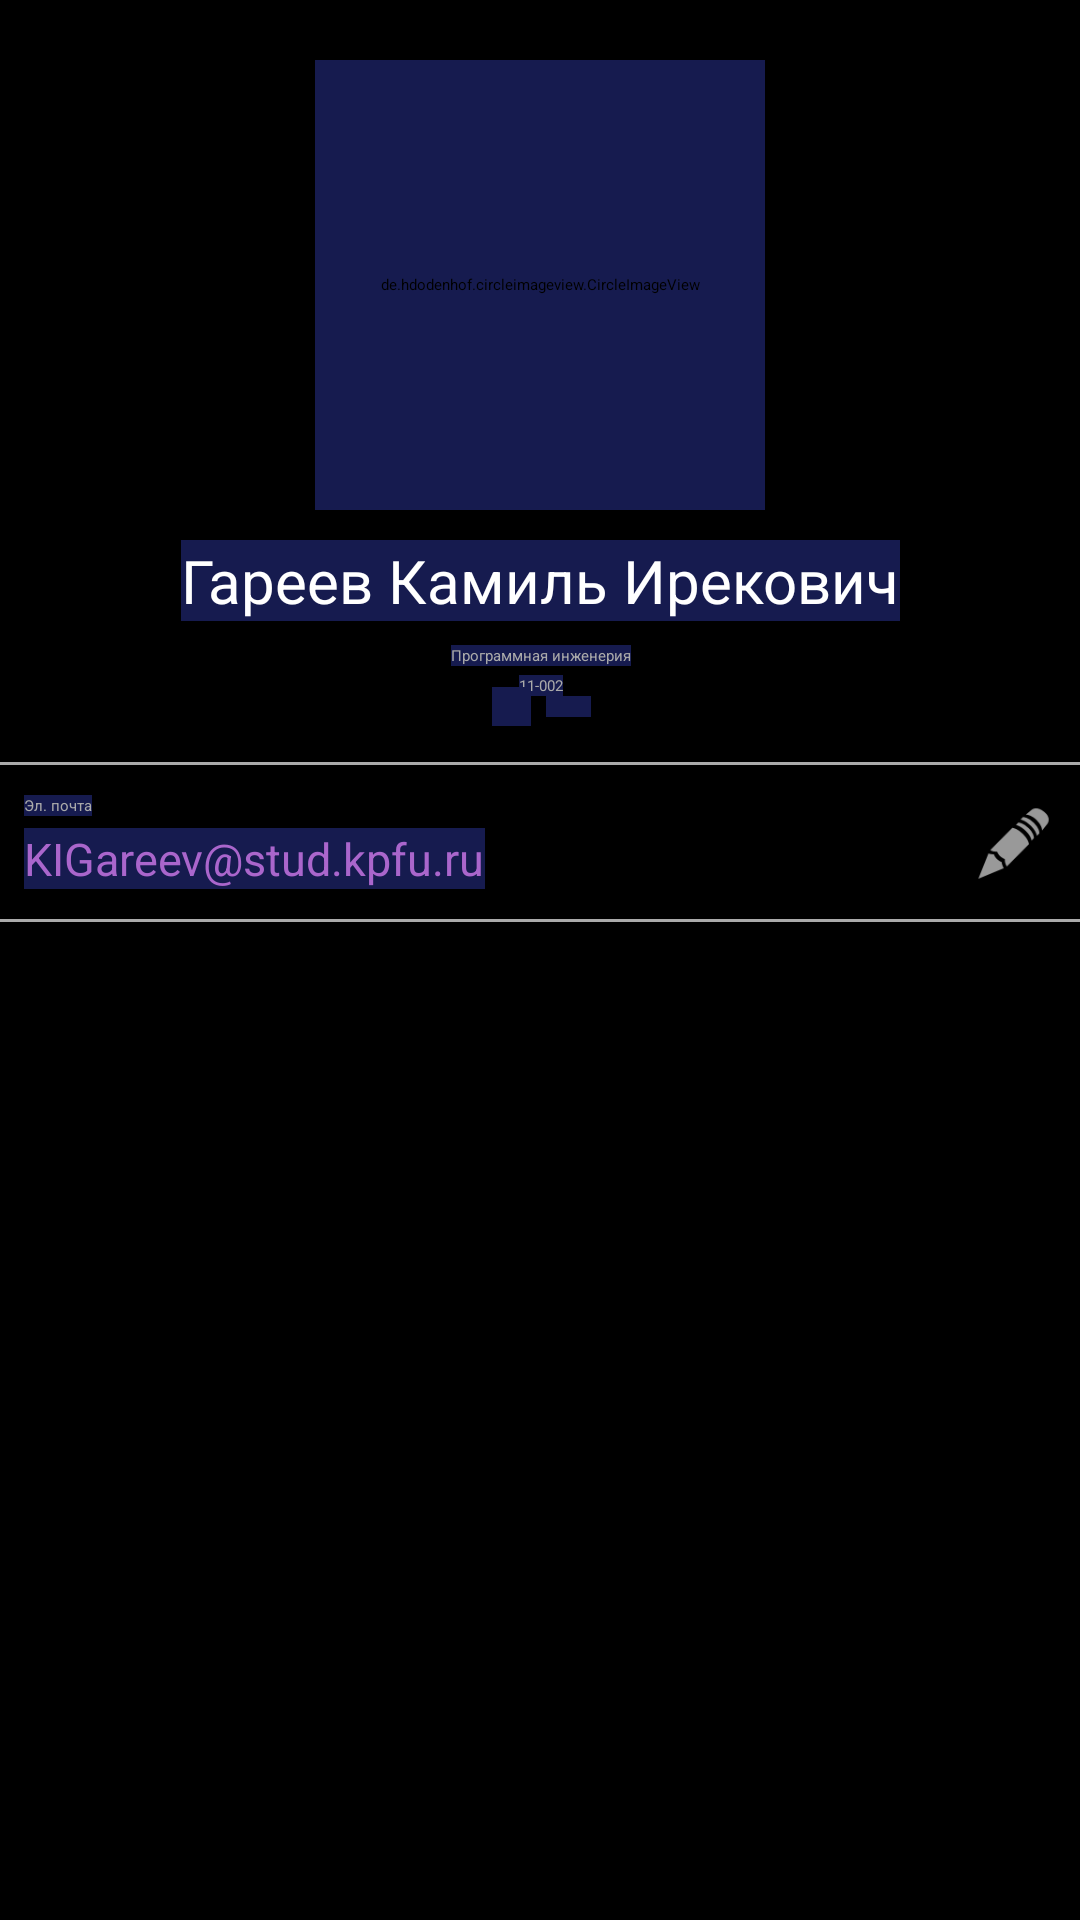

Screen size 1080w x 1920h. Icon name, then its center in pixels as (x,y):
edit: (1013,843)
